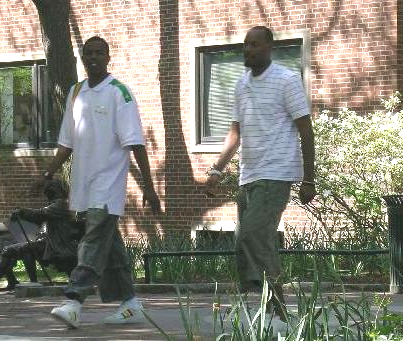pedestrian: (35, 37, 159, 329), (203, 26, 315, 302)
